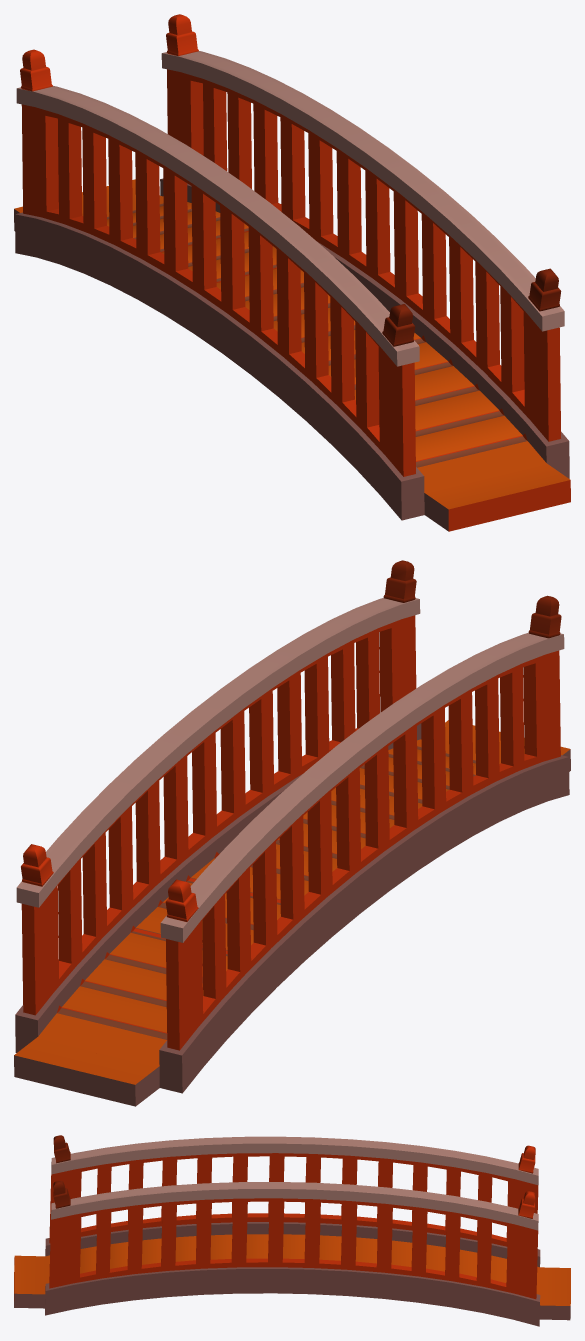
Rendered from PUENTE.fbx.
3 views of the same model, one above another, from view 1: azimuth 30°, elevation 25°; view 2: azimuth 150°, elevation 25°; view 3: azimuth 270°, elevation 25° (orthographic). The views are drawn at different scales.
Visible parts, largest first — view 1: Bridge; view 2: Bridge; view 3: Bridge.
Part boxes in pixels (x1,y1,x2,y2): Bridge: [14, 14, 570, 531]; Bridge: [14, 560, 570, 1106]; Bridge: [14, 1135, 570, 1326].
Size of the model in its own units: 441 by 553 by 1970.
